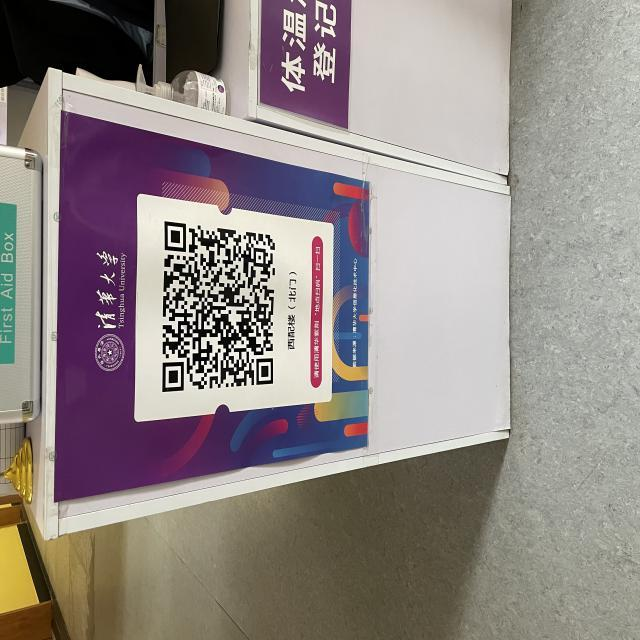qr_code: (162, 221, 275, 392)
